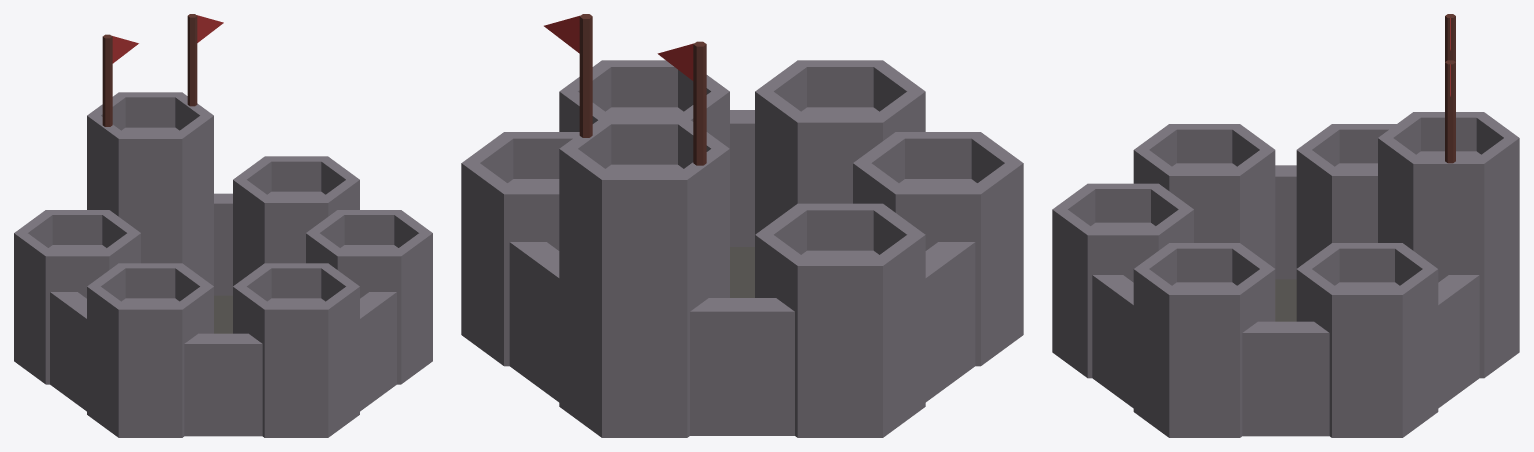
Rendered from Castle.fbx.
3 views of the same model, side by side, from view 1: azimuth 30°, elevation 25°; view 2: azimuth 150°, elevation 25°; view 3: azimuth 270°, elevation 25° (orthographic). The views are drawn at different scales.
Parts seen in each view (by area): view 1: Castle; view 2: Castle; view 3: Castle.
Part boxes in pixels (x1,y1,x2,y2): Castle: (14,14,432,437); Castle: (461,14,1023,437); Castle: (1052,14,1519,437).
Size of the model in its own units: 0.9692 by 0.8286 by 1.12.
